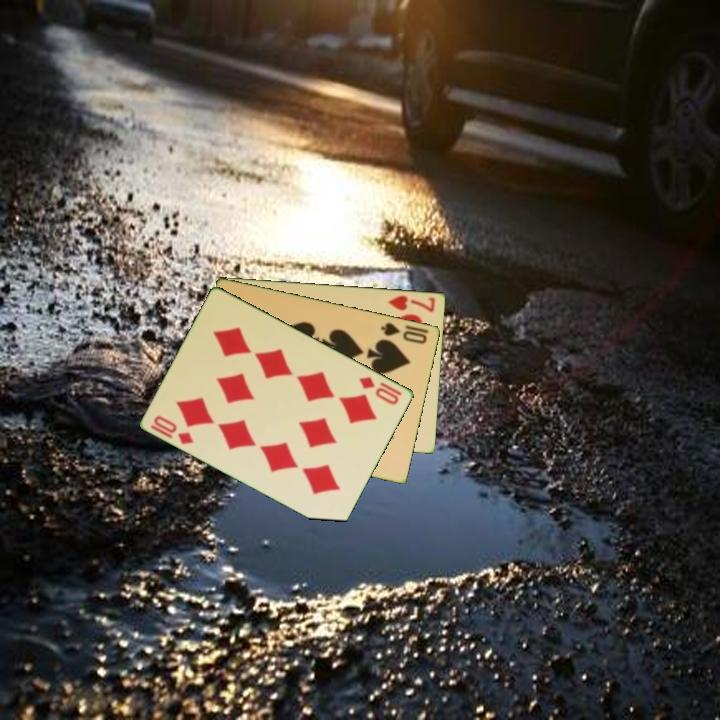10d: (150, 412, 197, 447), (356, 373, 402, 408)
10s: (378, 319, 430, 347)
7h: (385, 292, 438, 315)
